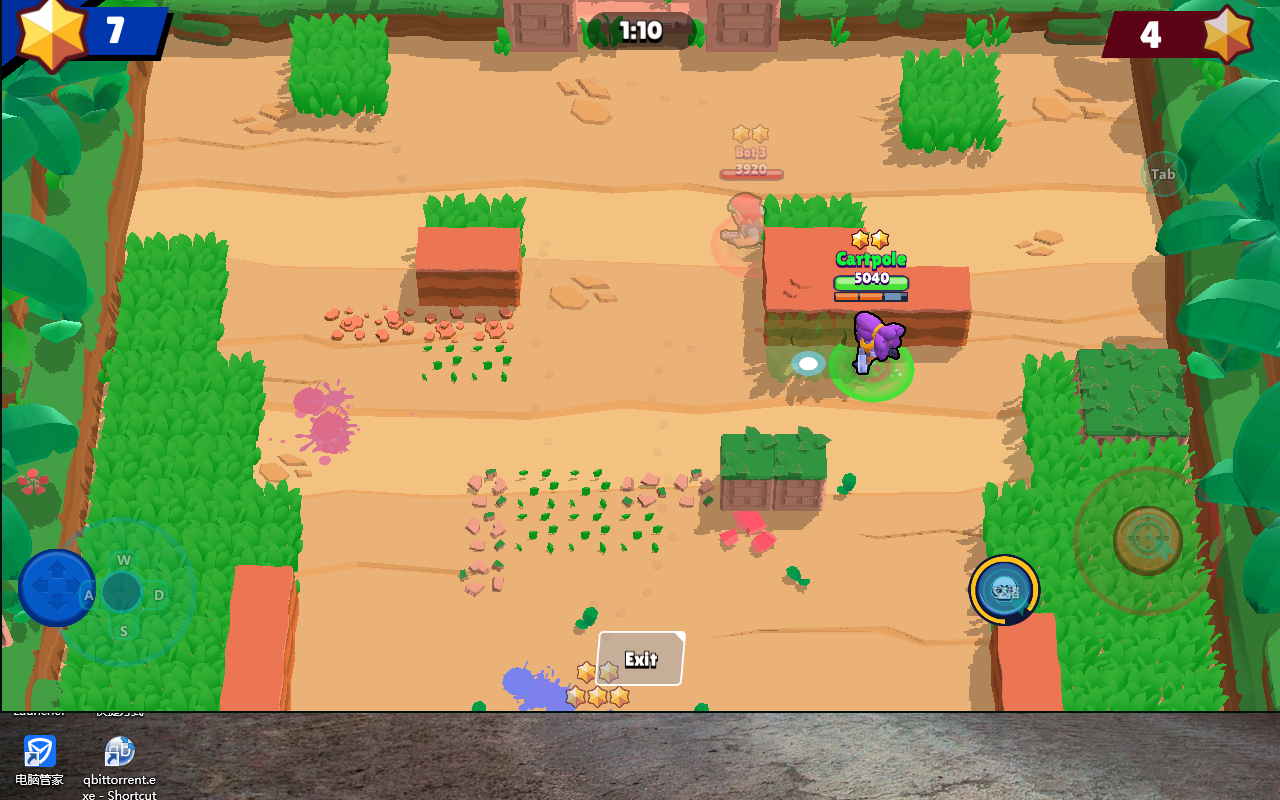current_player: (828, 336, 914, 404)
